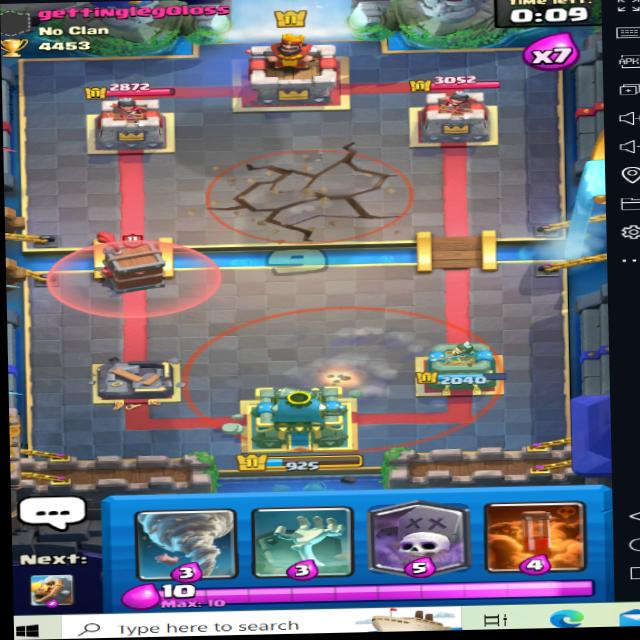Earthquake: (207, 145, 414, 243)
Royaldelivery: (84, 225, 174, 304)
Tornado: (188, 300, 497, 459)
